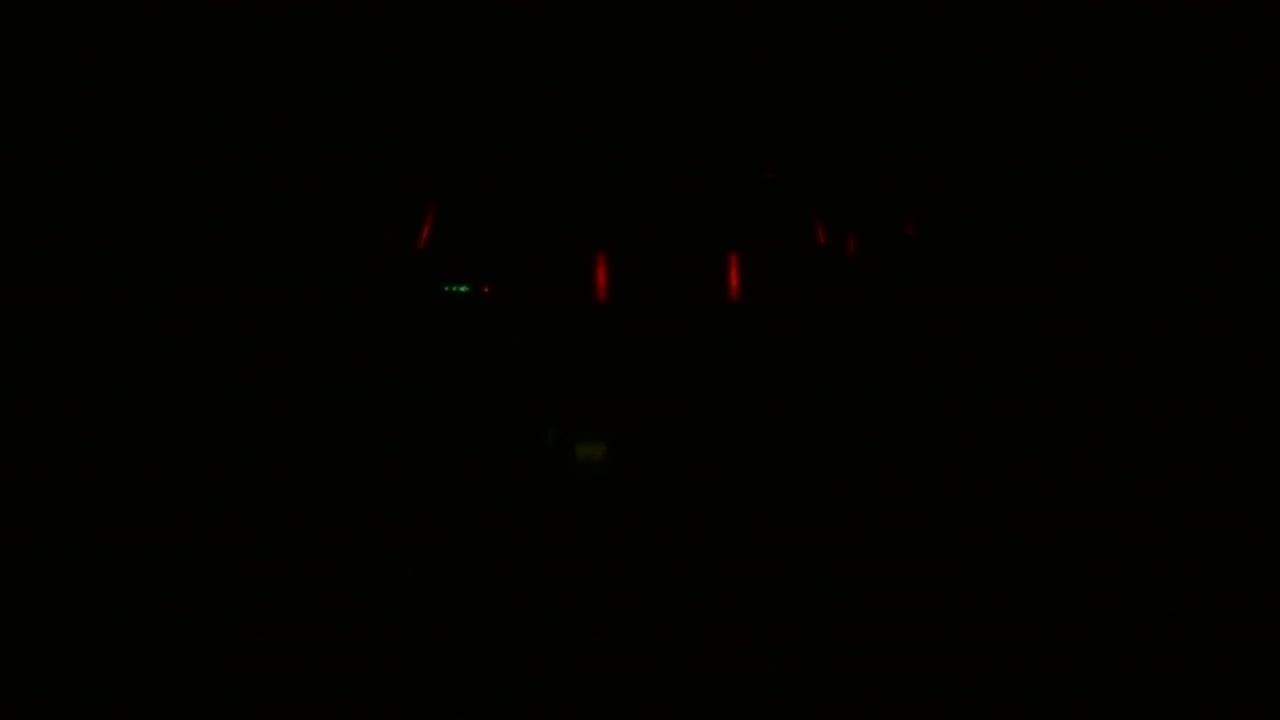pair1: (586, 248, 745, 303)
